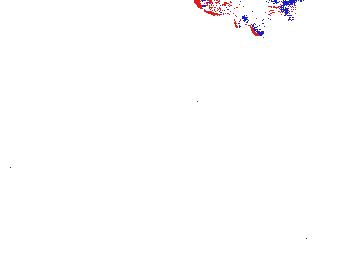redtail glassfish: (194, 1, 297, 25)
